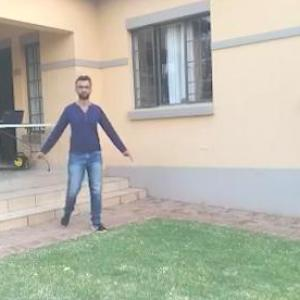land: (36, 80, 130, 230)
